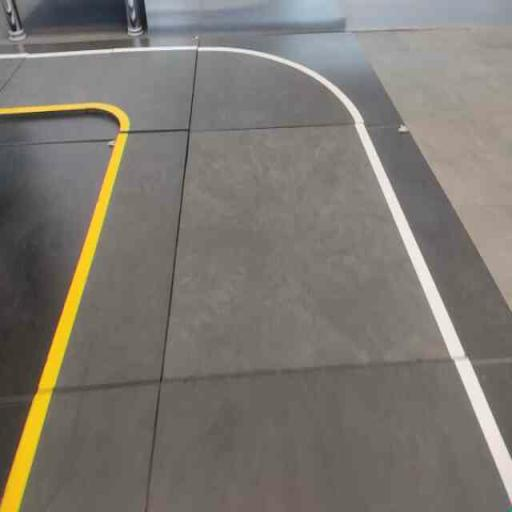straight: (0, 123, 511, 511)
